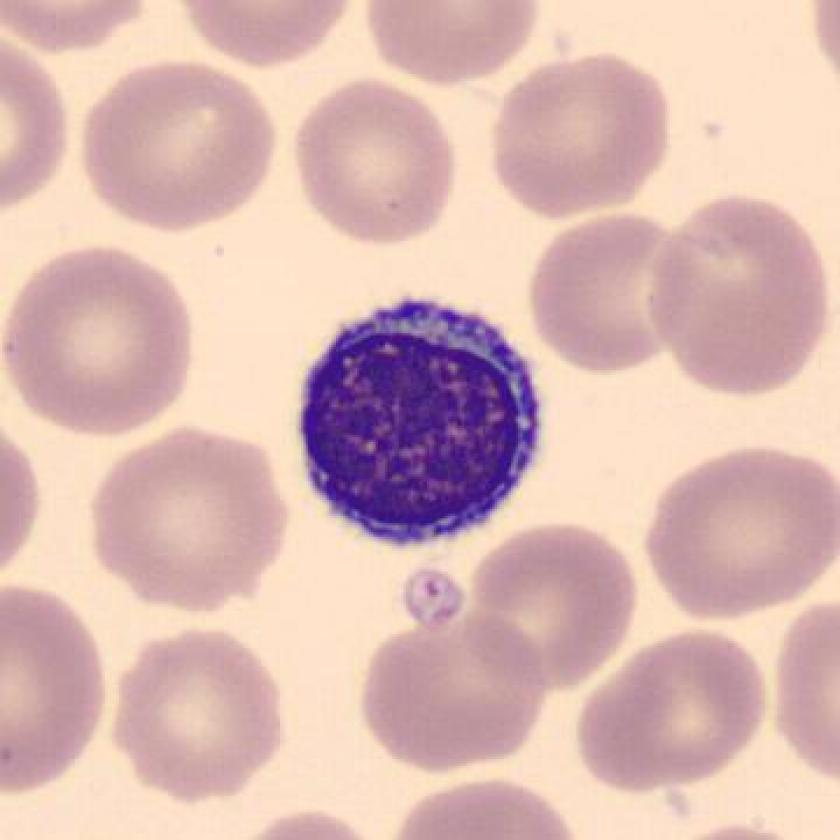lymphocyte: (288, 279, 559, 561)
